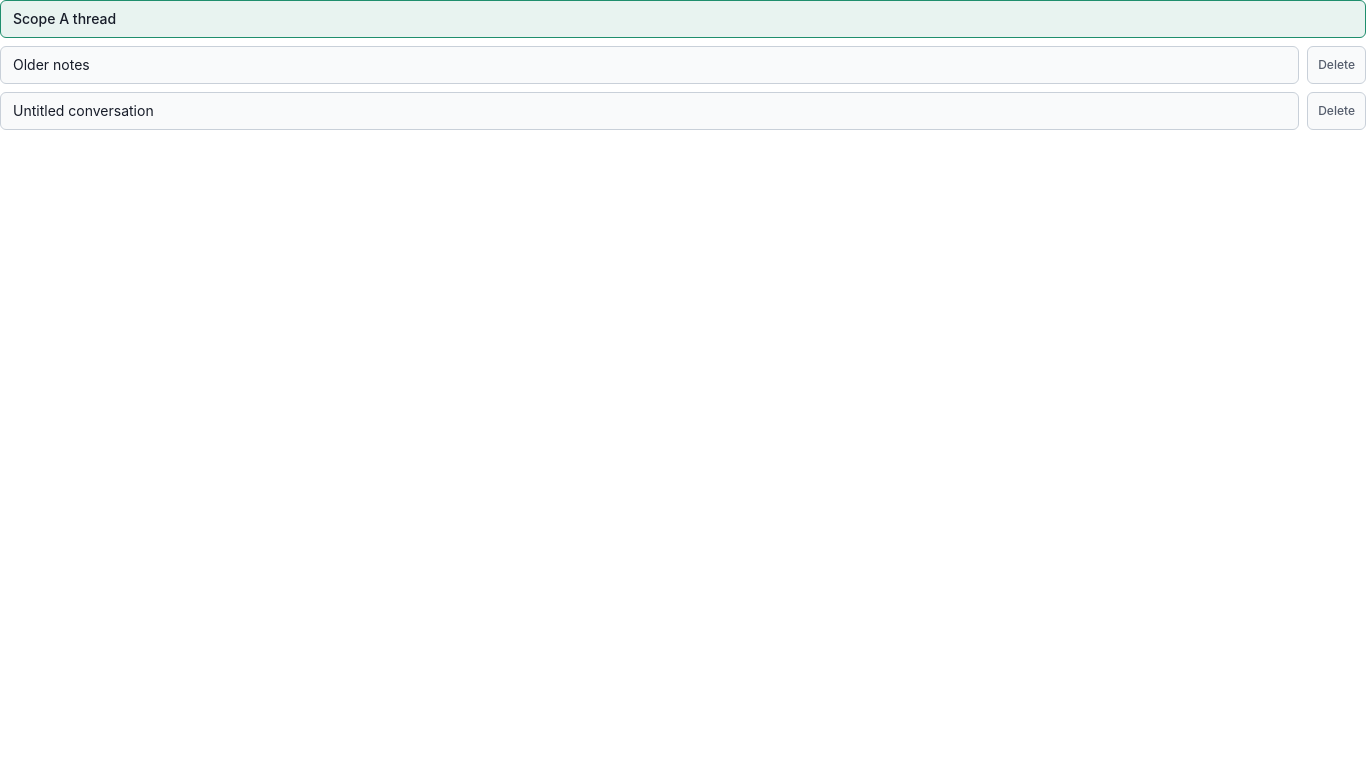
Test: ConversationList › uses the untitled fallback in the confirmation modal
Click the button with aria-label "Delete Untitled conversation" at (1337, 111), box [1307,92,1365,130]
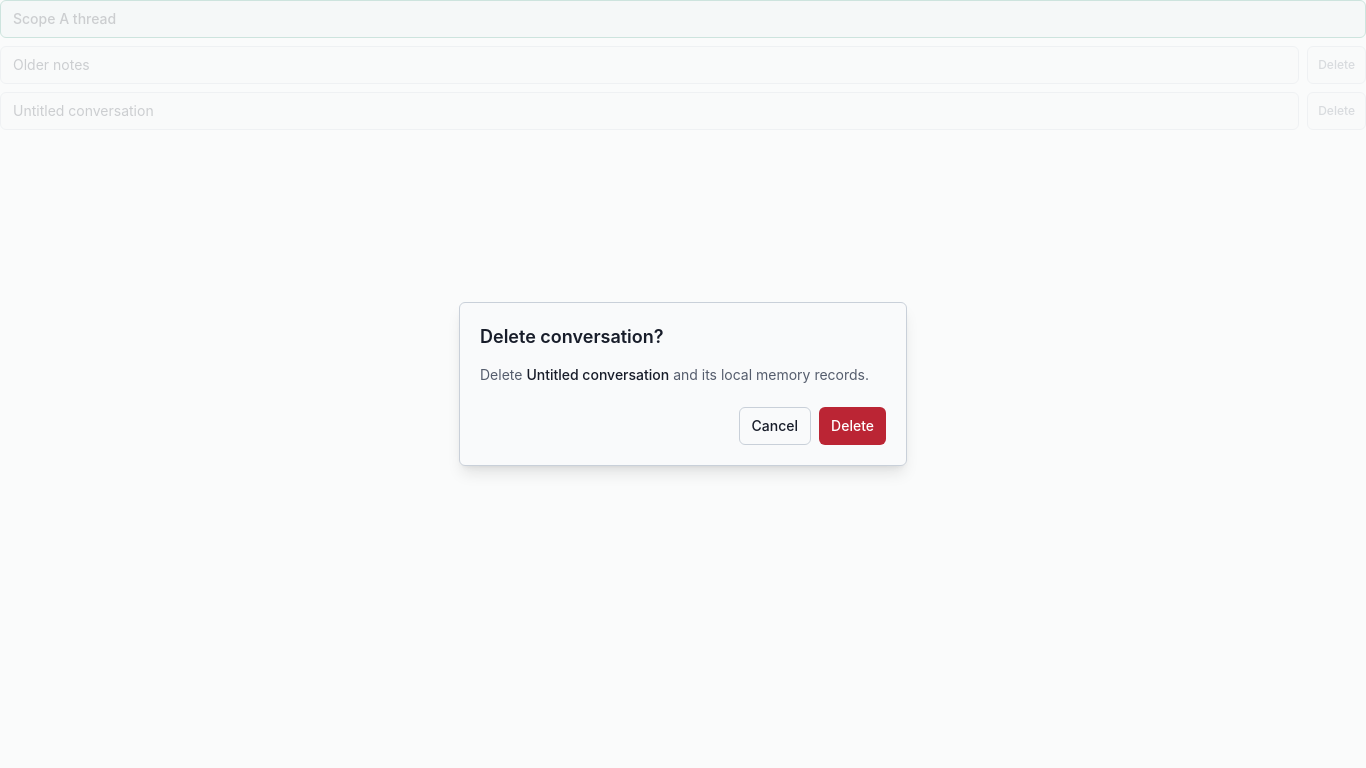
Check: the dialog "Delete conversation?" shows "Untitled conversation", box [526,366,669,383]
